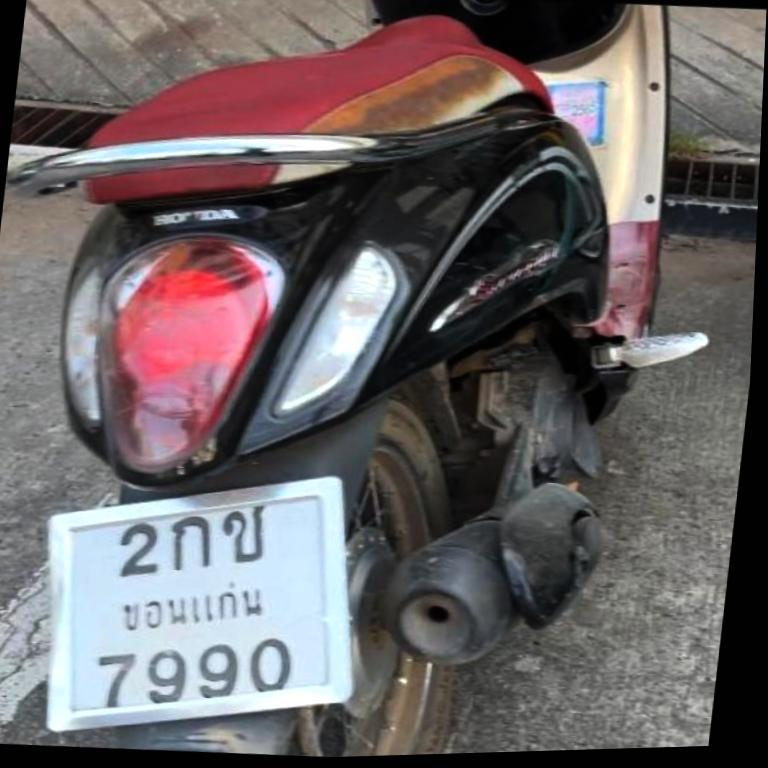license plate: (17, 451, 387, 746)
